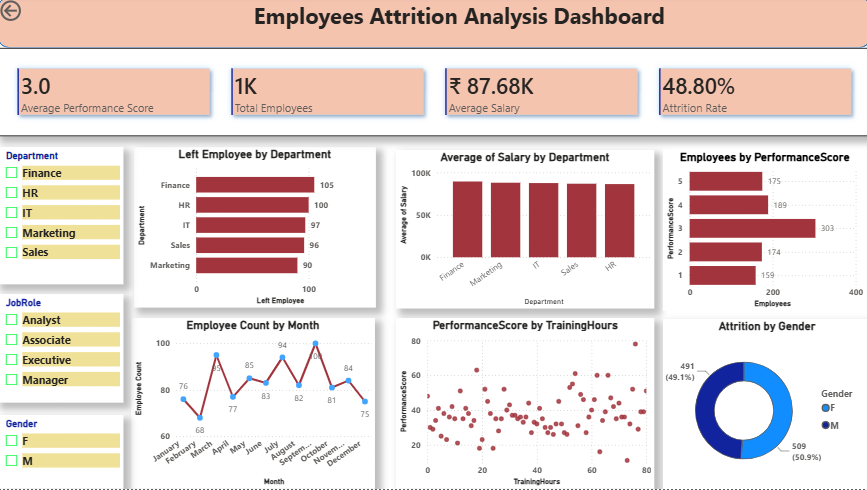

The dashboard page shown, as its layout file describes it:
{"tool":"powerbi","page":{"name":"Employees_Attrition_Analysis_Dashboard","canvas":[1280,720],"ordinal":0},"visuals":[{"type":"clusteredBarChart","fields":{"Category":["hr_db hr_dataset.Department"],"Y":["CountNonNull(hr_db hr_dataset.EmployeeID)"]},"box":[199.8,220.1,353.9,235.3],"z":0},{"type":"cardVisual","fields":{"Data":["hr_db hr_dataset.Average Performance Score","hr_db hr_dataset.Total Employees","hr_db hr_dataset.Average Salary","hr_db hr_dataset.Attrition Rate"]},"box":[0,74.5,1280,128.7],"z":1000},{"type":"shape","box":[0,0,1280,74.5],"z":2000},{"type":"textbox","box":[279.4,0,794.1,59.3],"z":3000},{"type":"clusteredColumnChart","fields":{"Category":["hr_db hr_dataset.Department"],"Y":["Avg(hr_db hr_dataset.Salary)"]},"box":[584.1,223.5,377.6,232],"z":4000},{"type":"lineChart","fields":{"Y":["CountNonNull(hr_db hr_dataset.EmployeeID)"],"Category":["hr_db hr_dataset.HireDate.Variation.Date Hierarchy.Month"]},"box":[196.1,469.8,357.1,250.2],"z":5000},{"type":"scatterChart","fields":{"X":["hr_db hr_dataset.TrainingHours"],"Y":["Sum(hr_db hr_dataset.PerformanceScore)"]},"box":[583.3,470,378.3,250],"z":6000},{"type":"donutChart","fields":{"Category":["hr_db hr_dataset.Gender"],"Y":["CountNonNull(hr_db hr_dataset.Attrition)"]},"box":[975.2,470.7,304.8,248.9],"z":7000},{"type":"barChart","fields":{"Category":["hr_db hr_dataset.PerformanceScore"],"Y":["CountNonNull(hr_db hr_dataset.EmployeeID)"]},"box":[975.2,223.5,298,235.3],"z":7001},{"type":"slicer","fields":{"Values":["hr_db hr_dataset.Department"]},"box":[0,220.1,184.6,201.5],"z":7002},{"type":"actionButton","box":[0,0,100,40],"z":7003},{"type":"slicer","fields":{"Values":["hr_db hr_dataset.JobRole"]},"box":[0,435.1,184.6,159.2],"z":7004},{"type":"slicer","fields":{"Values":["hr_db hr_dataset.Gender"]},"box":[0,611.2,184.6,108.4],"z":7005}]}

Visuals, with their boxes in screenshot pixels (x1, y1, x2, y2), scaled from the page's 1280x720 canvas onto the 867x490 screenshot:
clusteredBarChart - hr_db hr_dataset.Department x CountNonNull(hr_db hr_dataset.EmployeeID): left=135, top=150, right=375, bottom=310
cardVisual - hr_db hr_dataset.Average Performance Score x hr_db hr_dataset.Total Employees: left=0, top=51, right=866, bottom=138
shape: left=0, top=0, right=866, bottom=51
textbox: left=189, top=0, right=727, bottom=40
clusteredColumnChart - hr_db hr_dataset.Department x Avg(hr_db hr_dataset.Salary): left=396, top=152, right=651, bottom=310
lineChart - CountNonNull(hr_db hr_dataset.EmployeeID) x hr_db hr_dataset.HireDate.Variation.Date Hierarchy.Month: left=133, top=320, right=375, bottom=489
scatterChart - hr_db hr_dataset.TrainingHours x Sum(hr_db hr_dataset.PerformanceScore): left=395, top=320, right=651, bottom=489
donutChart - hr_db hr_dataset.Gender x CountNonNull(hr_db hr_dataset.Attrition): left=661, top=320, right=866, bottom=489
barChart - hr_db hr_dataset.PerformanceScore x CountNonNull(hr_db hr_dataset.EmployeeID): left=661, top=152, right=862, bottom=312
slicer - hr_db hr_dataset.Department: left=0, top=150, right=125, bottom=287
actionButton: left=0, top=0, right=68, bottom=27
slicer - hr_db hr_dataset.JobRole: left=0, top=296, right=125, bottom=404
slicer - hr_db hr_dataset.Gender: left=0, top=416, right=125, bottom=489
